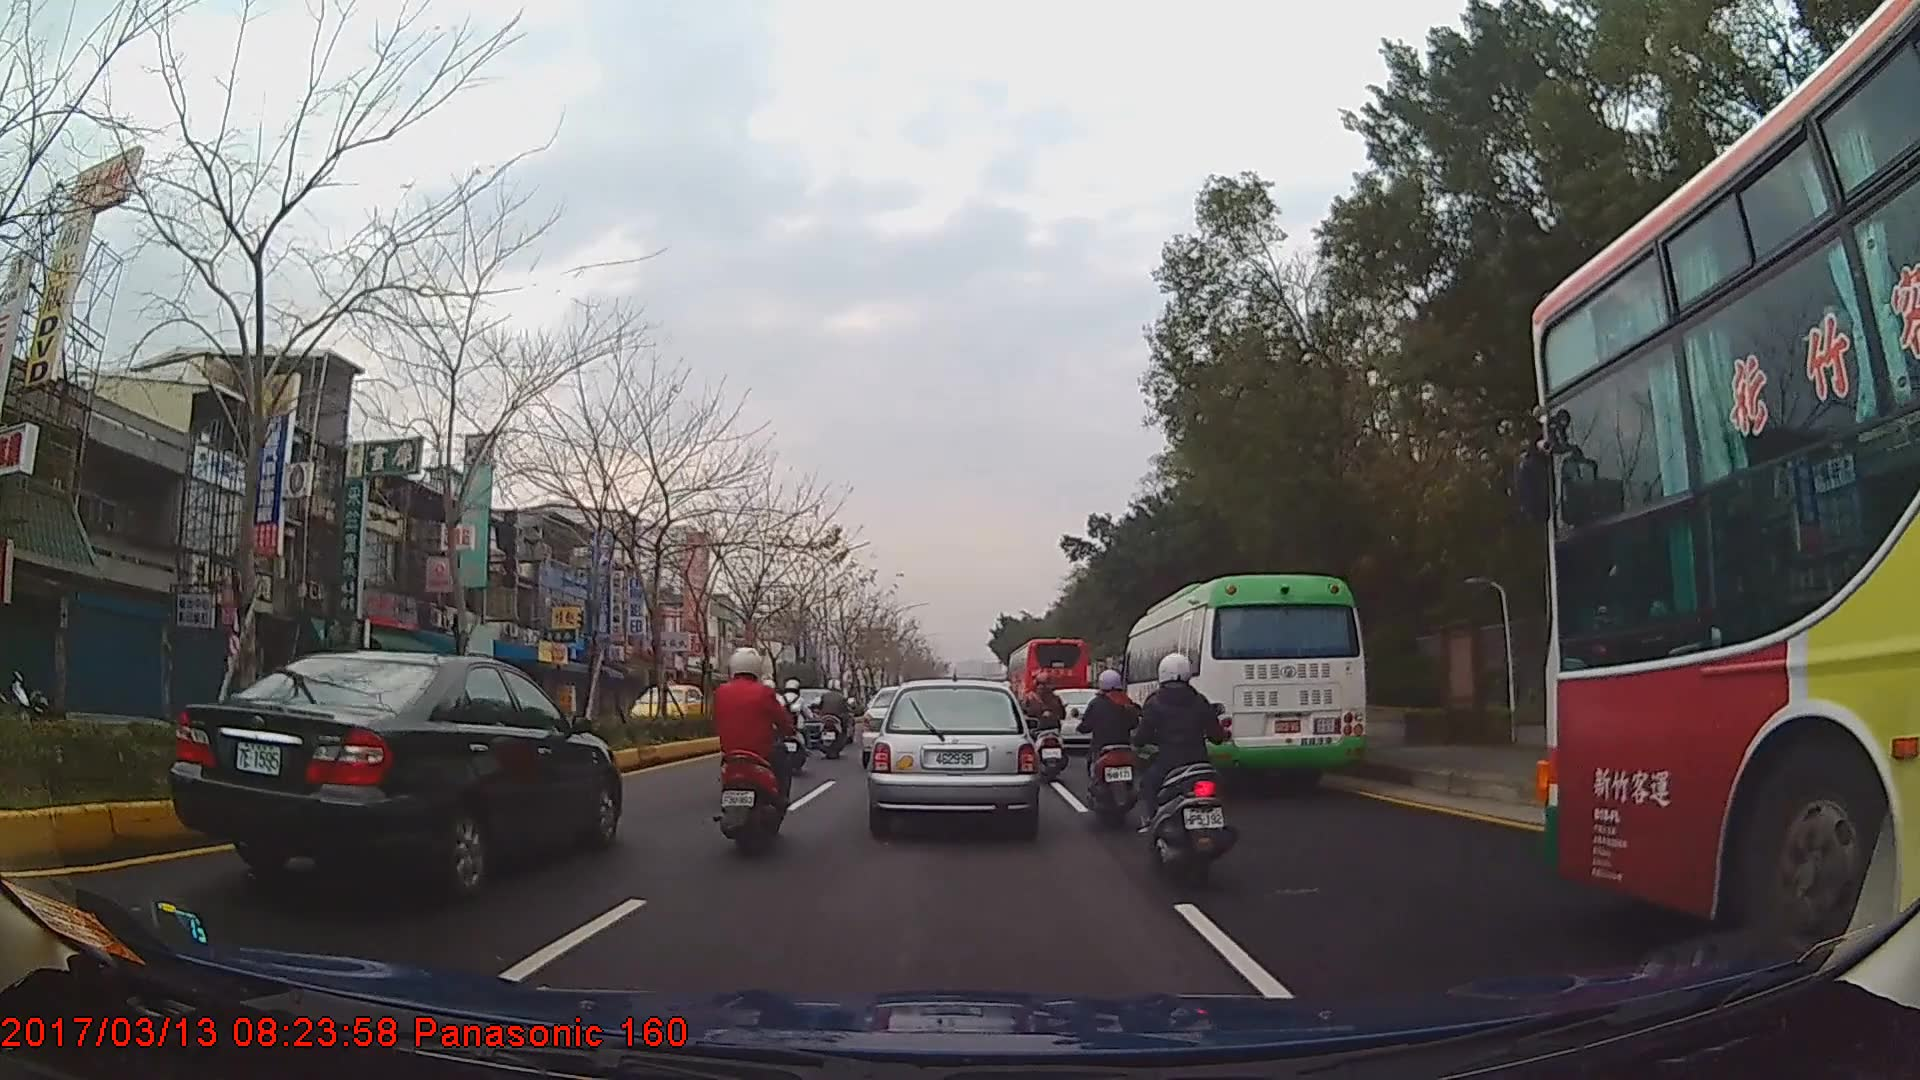rider: (1137, 650, 1239, 894), (704, 643, 788, 857), (1075, 664, 1146, 826), (1026, 669, 1070, 784), (775, 676, 816, 778), (819, 677, 858, 757), (757, 676, 798, 744)
vehicle: (1534, 0, 1919, 992), (166, 647, 622, 894), (1122, 574, 1369, 789), (866, 677, 1036, 834), (1007, 634, 1090, 729)
